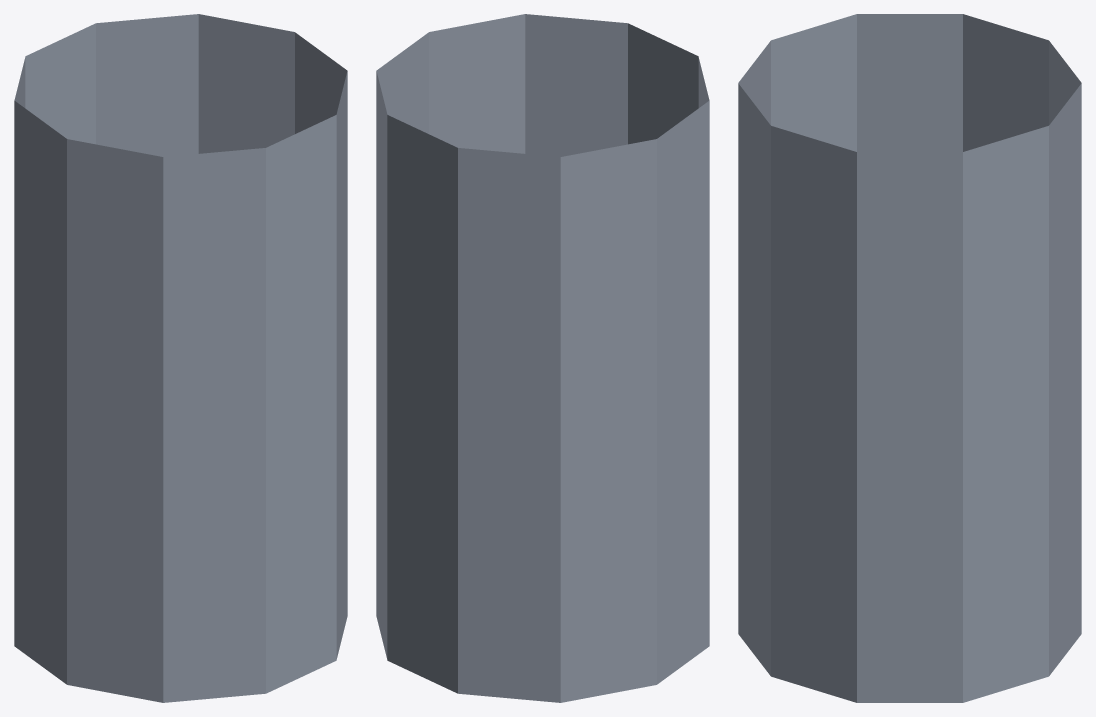
The model's file is metal_pipe_piece.glb.
3 renders of one model, left to right at view 1: azimuth 30°, elevation 25°; view 2: azimuth 150°, elevation 25°; view 3: azimuth 270°, elevation 25°, orthographic.
Parts seen in each view (by area): view 1: metal_pipe_piece; view 2: metal_pipe_piece; view 3: metal_pipe_piece.
Part boxes in pixels (x1=…): metal_pipe_piece: x1=14, y1=14, x2=347, y2=702; metal_pipe_piece: x1=376, y1=14, x2=709, y2=702; metal_pipe_piece: x1=738, y1=14, x2=1081, y2=702.
Bounding box in the file's own units: 0.2473 × 0.46 × 0.26.
